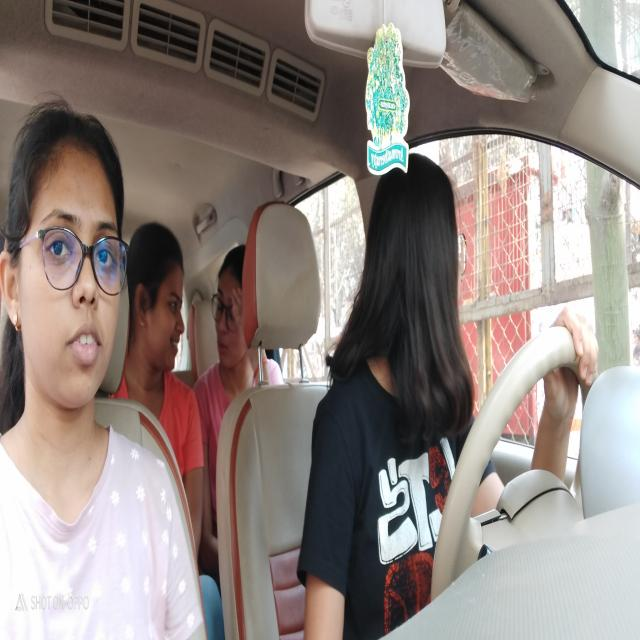LeftRight: (364, 158, 468, 376)
person: (1, 96, 133, 424), (132, 216, 187, 375), (213, 245, 247, 378)
